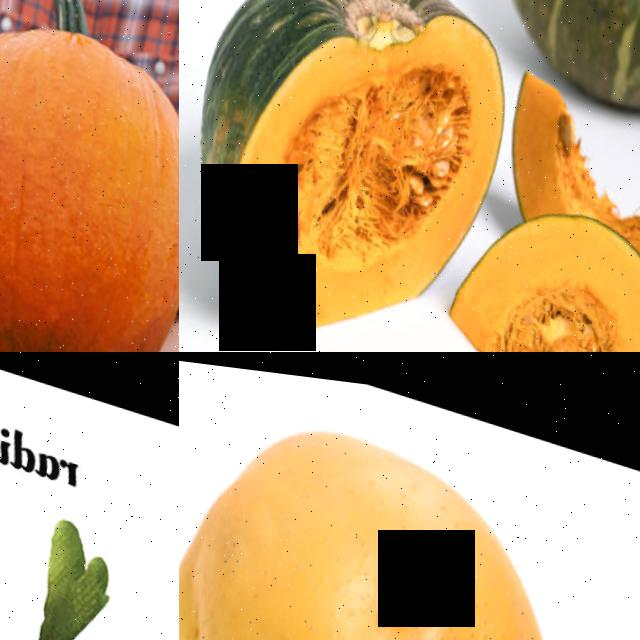potato: (179, 360, 613, 640)
pumpkin: (179, 0, 530, 352), (0, 0, 179, 352), (429, 167, 640, 352), (496, 56, 640, 243)
